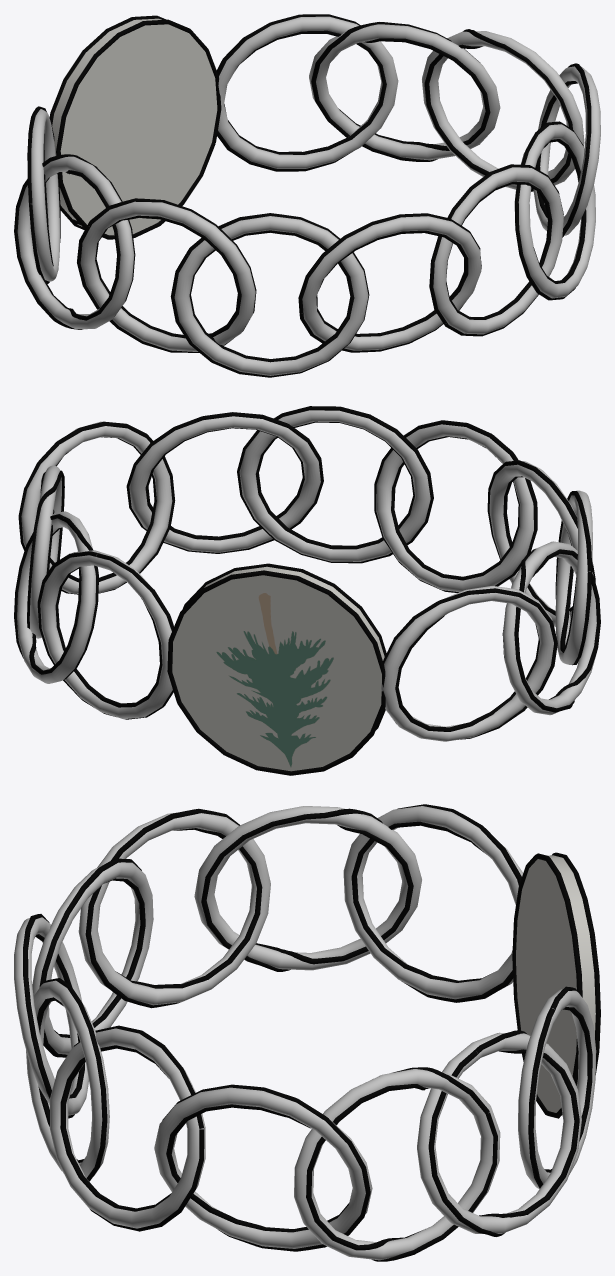
Rendered from Bracelet.fbx.
3 views of the same model, one above another, from view 1: azimuth 30°, elevation 25°; view 2: azimuth 150°, elevation 25°; view 3: azimuth 270°, elevation 25° (orthographic). The views are drawn at different scales.
Visible parts, largest first — view 1: bracelet1, Main; view 2: bracelet1, Main; view 3: bracelet1, Main.
Boxes of the visible parts, x1,y1,x2,y2 form: bracelet1: [17, 16, 600, 375]; Main: [14, 14, 591, 377]; bracelet1: [17, 410, 597, 771]; Main: [14, 406, 600, 775]; bracelet1: [14, 806, 596, 1260]; Main: [23, 804, 600, 1261].
Size of the model in its own units: 1.98 by 0.7351 by 1.62.
